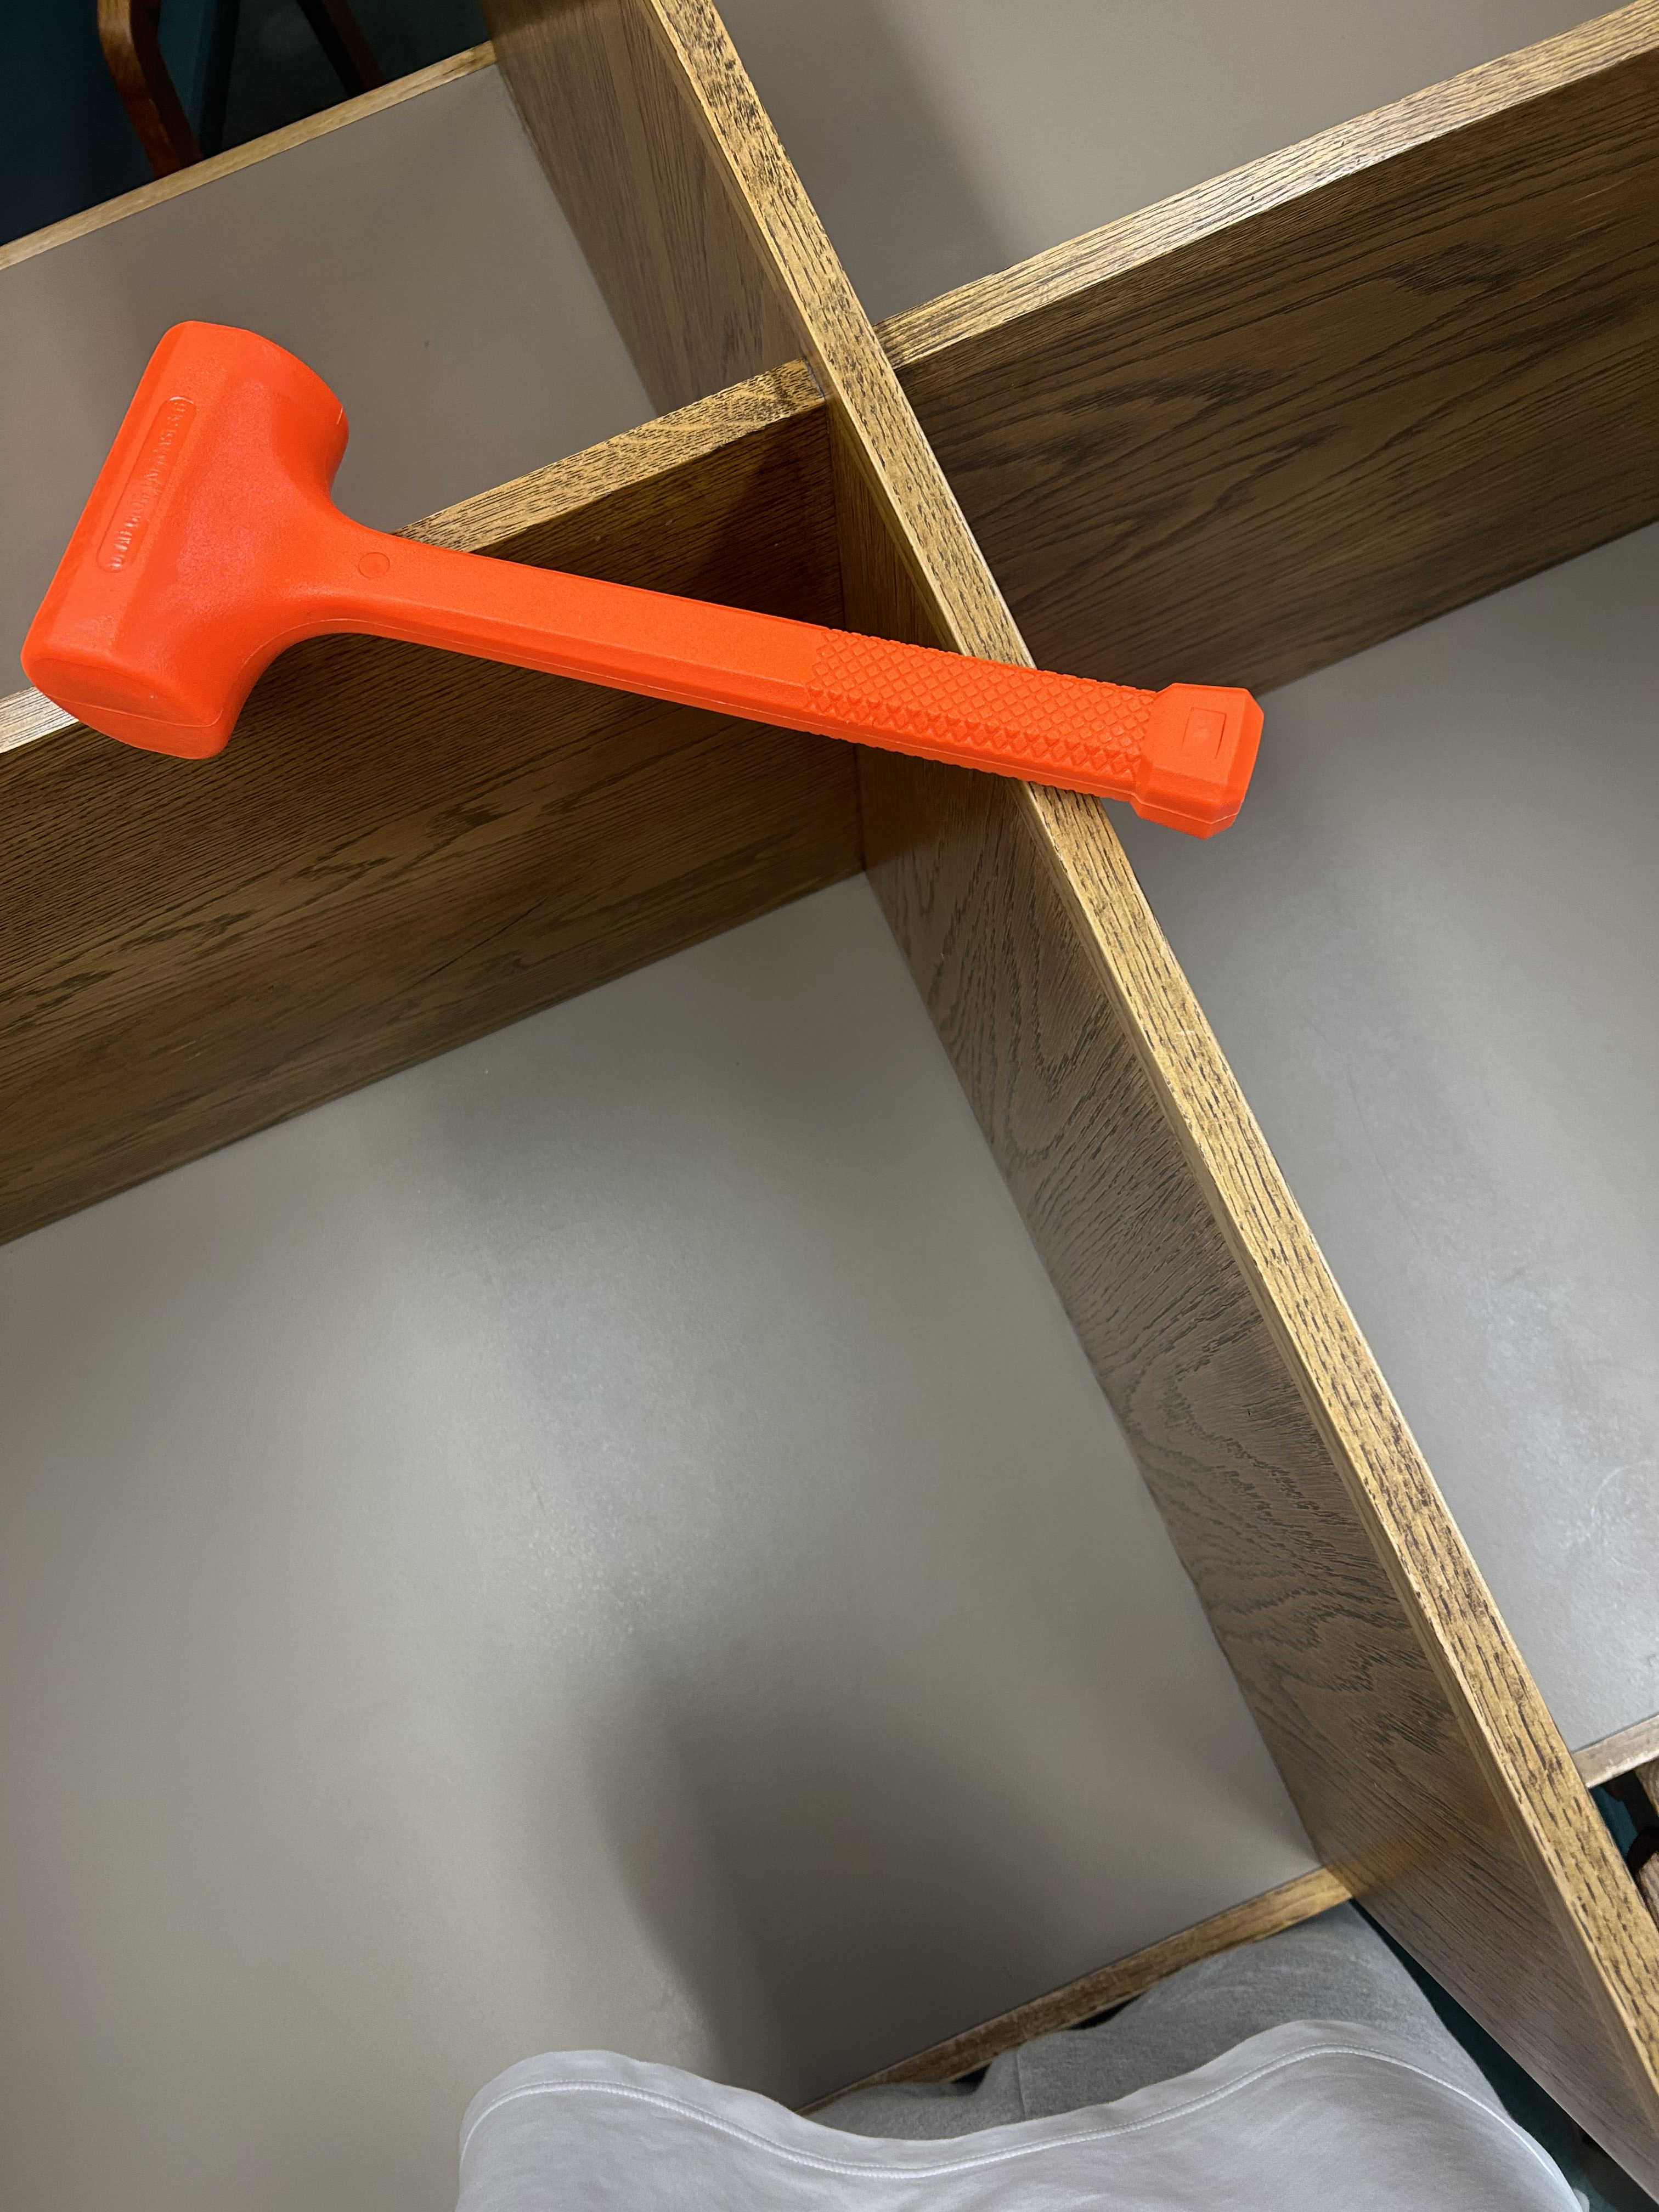Hammer: (14, 237, 1288, 934)
